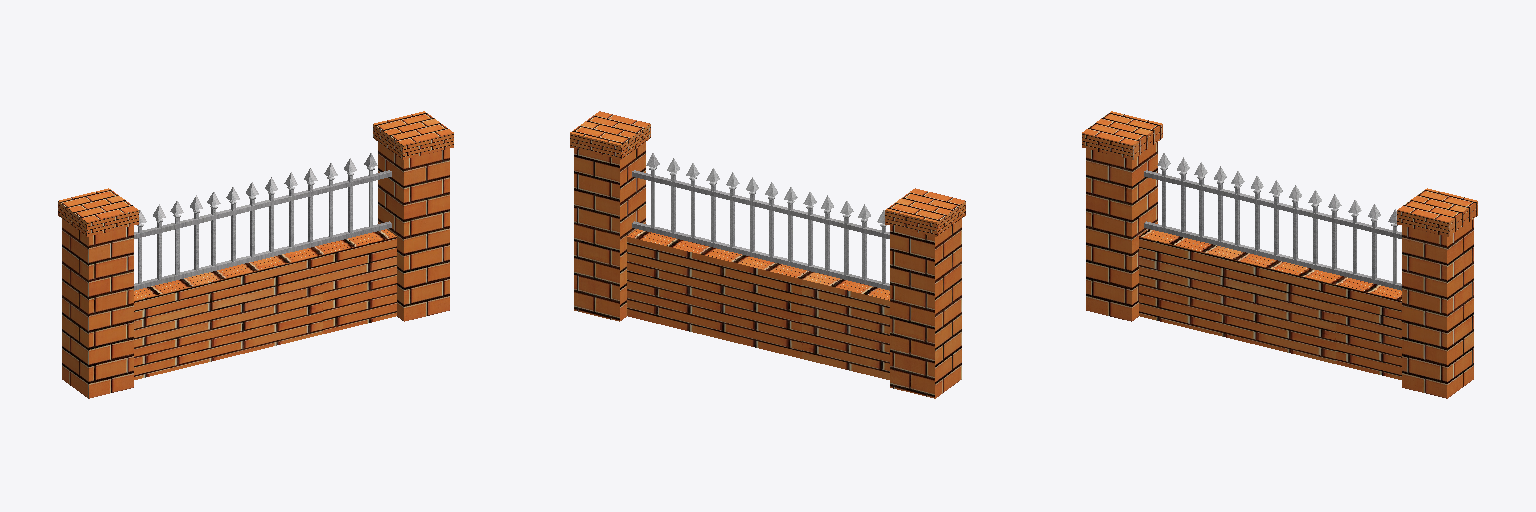
3 renders of one model, left to right at view 1: azimuth 30°, elevation 25°; view 2: azimuth 150°, elevation 25°; view 3: azimuth 330°, elevation 25°, orthographic.
Parts seen in each view (by area): view 1: pCube1, pCube2, pCube3, pCube4, pCube5, pCube20, pCube21; view 2: pCube1, pCube2, pCube3, pCube4, pCube5, pCube20, pCube21; view 3: pCube1, pCube3, pCube2, pCube5, pCube4, pCube20, pCube21.
Boxes of the visible parts, x1=… form: pCube1: x1=134, y1=229, x2=396, y2=379; pCube2: x1=62, y1=219, x2=133, y2=398; pCube3: x1=378, y1=142, x2=449, y2=321; pCube4: x1=373, y1=111, x2=453, y2=159; pCube5: x1=58, y1=188, x2=138, y2=236; pCube20: x1=134, y1=221, x2=391, y2=290; pCube21: x1=134, y1=170, x2=391, y2=238; pCube1: x1=627, y1=229, x2=889, y2=379; pCube2: x1=890, y1=219, x2=961, y2=398; pCube3: x1=574, y1=142, x2=645, y2=321; pCube4: x1=570, y1=111, x2=650, y2=159; pCube5: x1=885, y1=188, x2=965, y2=236; pCube20: x1=632, y1=221, x2=889, y2=290; pCube21: x1=632, y1=170, x2=889, y2=238; pCube1: x1=1139, y1=229, x2=1401, y2=379; pCube3: x1=1402, y1=219, x2=1473, y2=398; pCube2: x1=1086, y1=142, x2=1157, y2=321; pCube5: x1=1082, y1=111, x2=1162, y2=159; pCube4: x1=1397, y1=188, x2=1477, y2=236; pCube20: x1=1144, y1=221, x2=1401, y2=290; pCube21: x1=1144, y1=170, x2=1401, y2=238.
Bounding box in the file's own units: 11.63 × 5.4 × 1.63.
2 materials, 2 textured.